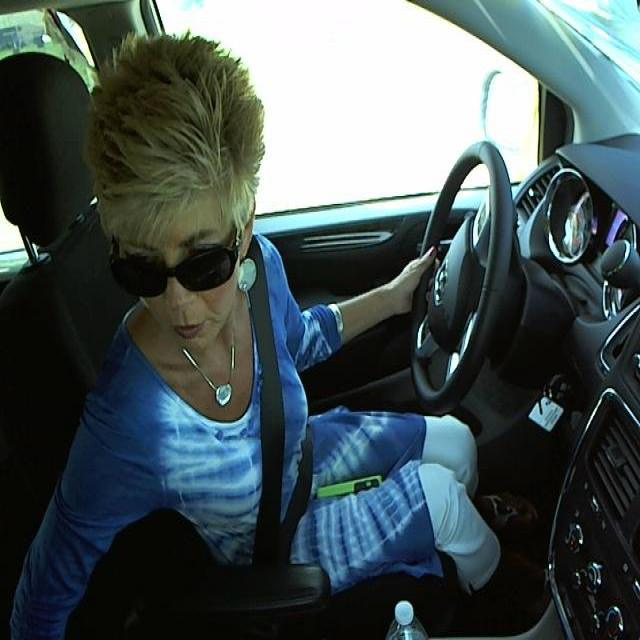seatbelt: (237, 291, 324, 569)
